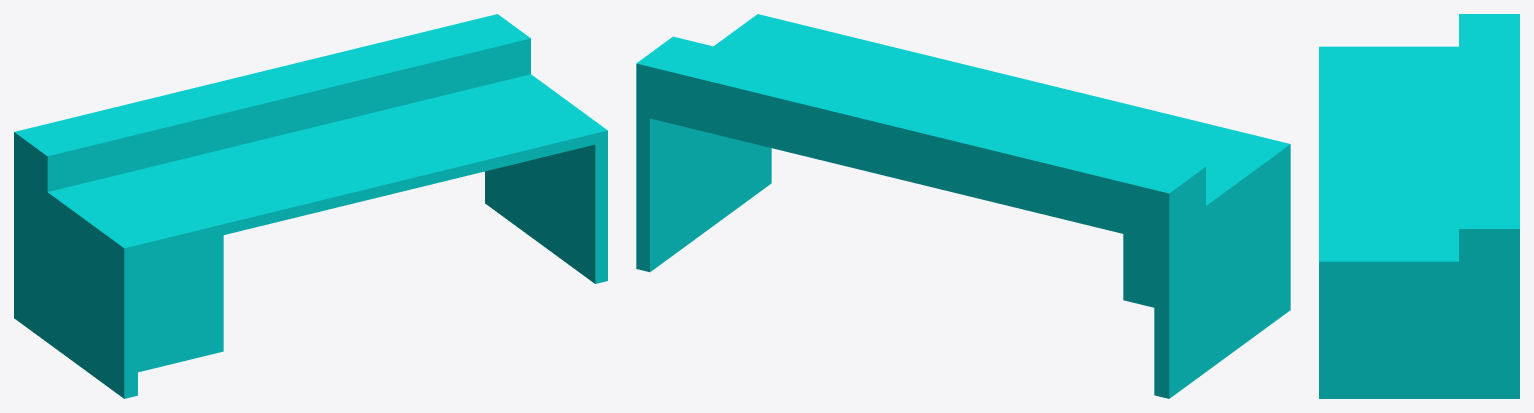
Rendered from SM_Prop_Security_Desk_03_Collision.fbx.
3 renders of one model, left to right at view 1: azimuth 30°, elevation 25°; view 2: azimuth 150°, elevation 25°; view 3: azimuth 270°, elevation 25°, orthographic. The views are drawn at different scales.
Visible parts, largest first — view 1: SM_Prop_Security_Desk_03_Collision; view 2: SM_Prop_Security_Desk_03_Collision; view 3: SM_Prop_Security_Desk_03_Collision.
Boxes of the visible parts, x1=… form: SM_Prop_Security_Desk_03_Collision: x1=14, y1=14, x2=607, y2=398; SM_Prop_Security_Desk_03_Collision: x1=636, y1=14, x2=1290, y2=398; SM_Prop_Security_Desk_03_Collision: x1=1319, y1=14, x2=1519, y2=398.
Bounding box in the file's own units: 252 × 92.81 × 99.48.
